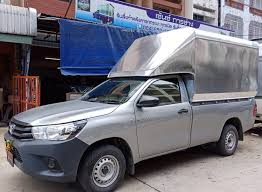pickup: (6, 79, 259, 192)
